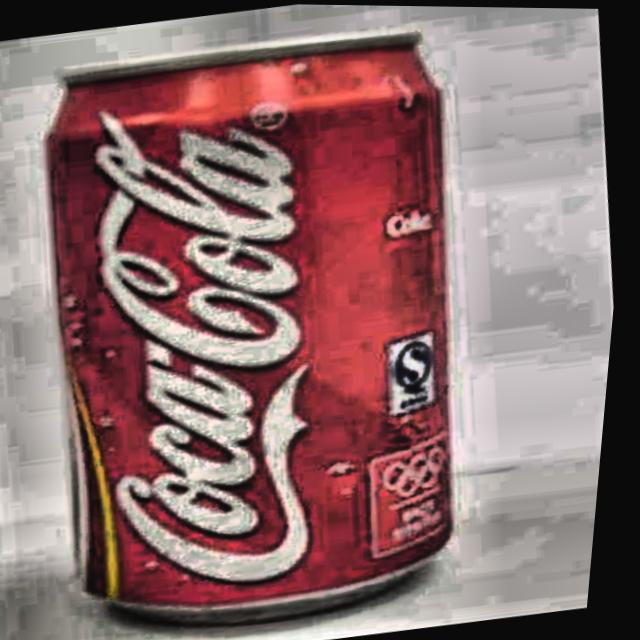Cans: (0, 0, 536, 640)
